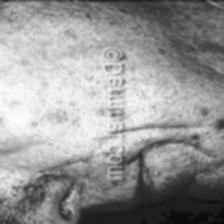Non-Cancerous Skin Condition: (0, 46, 101, 224), (144, 58, 224, 198)
